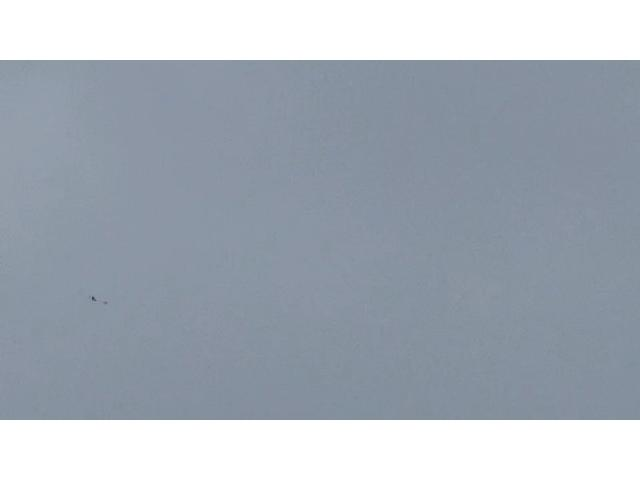Anti-Drone: (75, 285, 111, 309)
